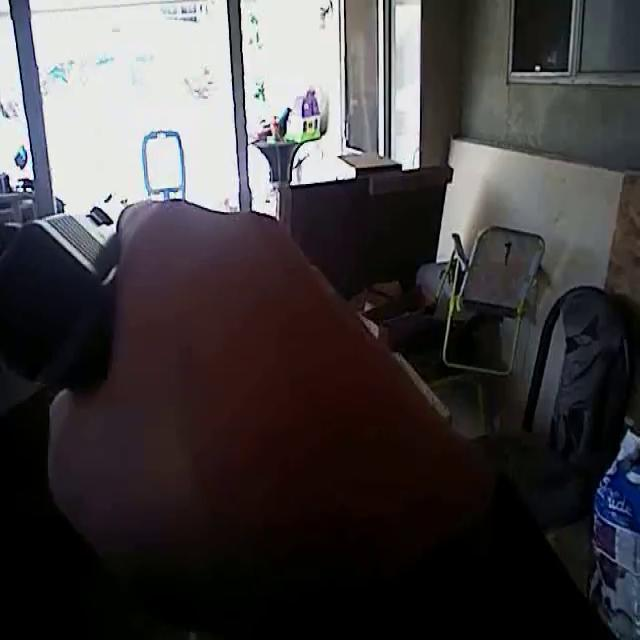gun: (0, 100, 171, 466)
